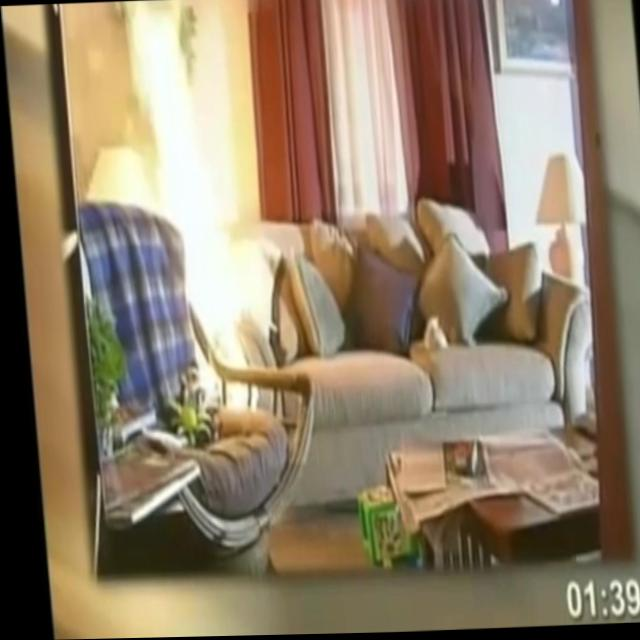fire: (127, 3, 252, 394)
